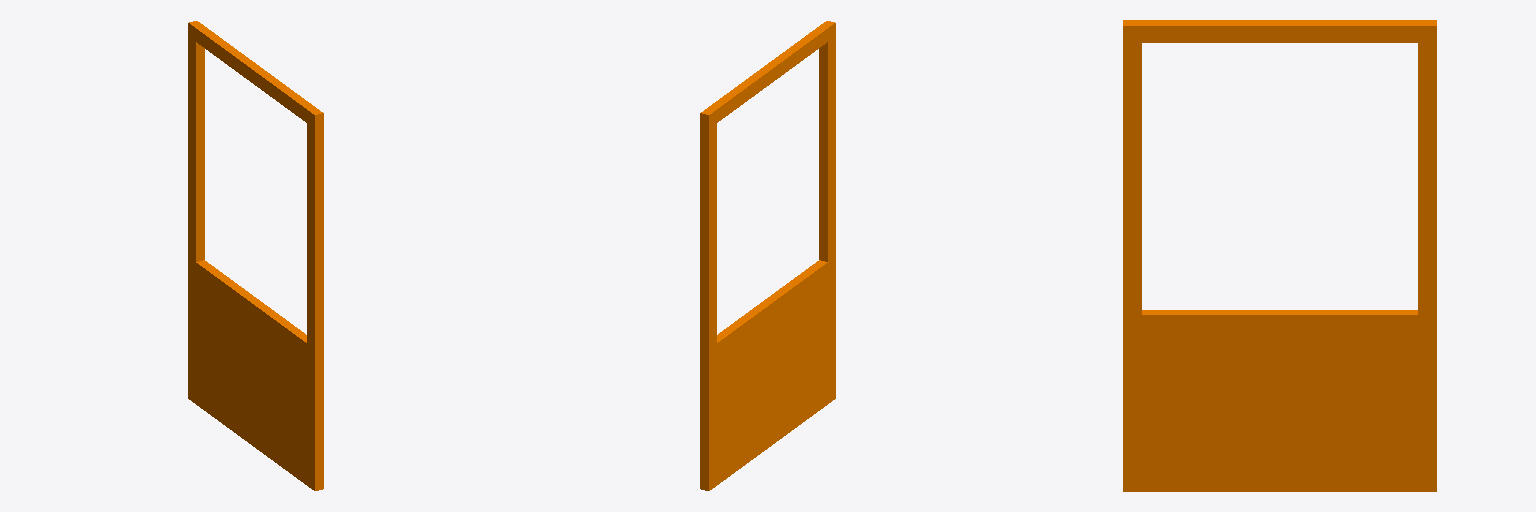
URDF robot description (room610-no-name-5-robot):
<?xml version="1.0"?>
<robot name="room610-no-name-5-robot"
       xmlns:xi="http://www.w3.org/2001/XInclude"
       >
  <gazebo>
    <static>false</static>
  </gazebo>
  <link name="nil_link">
    <visual>
      <origin xyz="0 0 0" rpy="0 -0 0"/>
      <geometry>
        <mesh filename="model://room610-no-name-5/meshes/nil_link_mesh.dae" scale="1 1 1" />
      </geometry>
    </visual>
    <collision>
      <origin xyz="0 0 0" rpy="0 -0 0"/>
      <geometry>
        <mesh filename="model://room610-no-name-5/meshes/nil_link_mesh.dae" scale="1 1 1" />
      </geometry>
    </collision>
    <inertial>
      <mass value="0.001" />
      <origin xyz="0 0 0" rpy="0 -0 0"/>
      <inertia ixx="1e-03" ixy="0" ixz="0" iyy="1e-03" iyz="0" izz="1e-03"/>
    </inertial>
  </link>
  <gazebo reference="nil_link">
    <mu1>0.9</mu1>
    <mu2>0.9</mu2>
  </gazebo>
</robot>

--- Facts derived from the render (not from the file) ---
The picture shows the robot from 3 angles, left to right: view 1: azimuth 30°, elevation 25°; view 2: azimuth 150°, elevation 25°; view 3: azimuth 270°, elevation 25°; orthographic projection.
Robot: room610-no-name-5-robot — 1 links, 0 joints (none); root link nil_link; default pose: all joints at 0.
Links seen in each view (by area): view 1: nil_link; view 2: nil_link; view 3: nil_link.
Boxes of the visible links, <box> form: nil_link: <box>188,21,323,490</box>; nil_link: <box>700,21,835,490</box>; nil_link: <box>1123,20,1436,491</box>.
Size in the robot's own frame: 0.05 by 1.25 by 2.05 metres.
Meshes: 1 distinct files referenced, 1 mesh visuals loaded (1 Collada DAE).